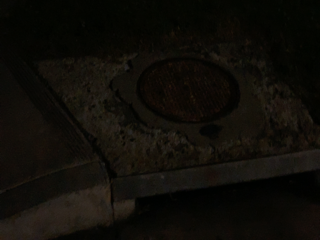Edge: (40, 150, 304, 220)
